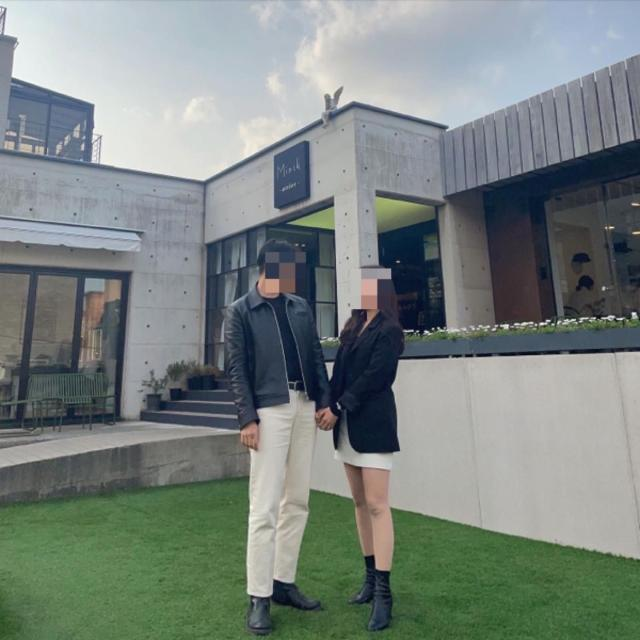blazer: (330, 306, 402, 456)
cottonpants: (243, 379, 316, 596)
jacket: (226, 279, 334, 426)
skirt: (338, 405, 394, 472)
